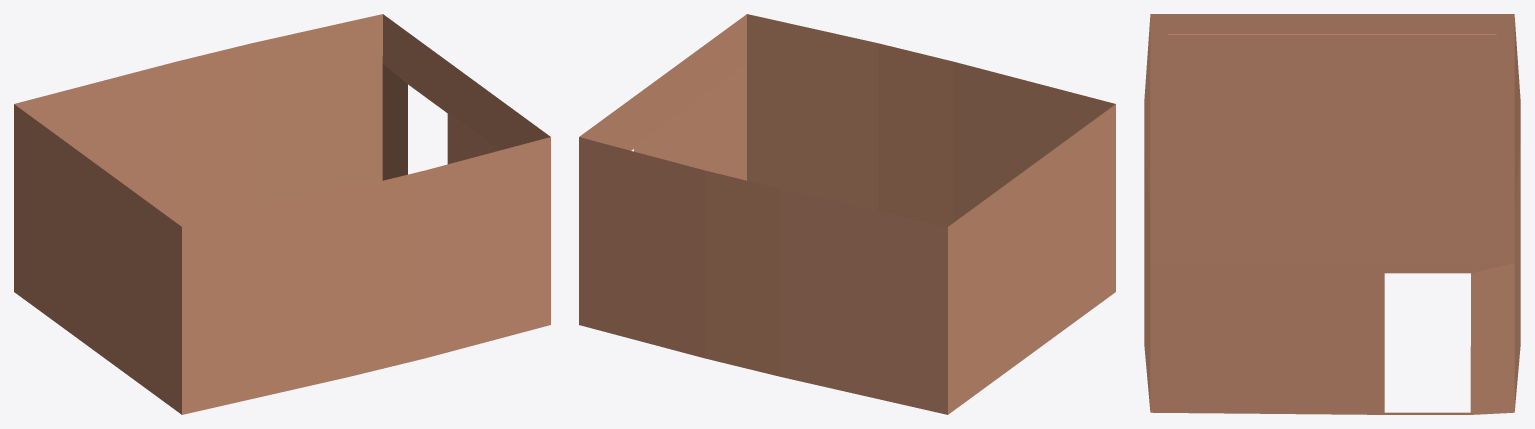
Rendered from Chambre_enfant_murext.fbx.
The picture shows the model from 3 angles, left to right: view 1: azimuth 30°, elevation 25°; view 2: azimuth 150°, elevation 25°; view 3: azimuth 270°, elevation 25°; orthographic projection. The views are drawn at different scales.
Visible parts, largest first — view 1: Chambre_enfant.001; view 2: Chambre_enfant.001; view 3: Chambre_enfant.001.
Boxes of the visible parts, box(x1,y1,x2,y2) form: Chambre_enfant.001: box(14, 14, 550, 414); Chambre_enfant.001: box(579, 14, 1115, 414); Chambre_enfant.001: box(1144, 14, 1520, 414).
Size of the model in its own units: 730 by 355 by 587.
